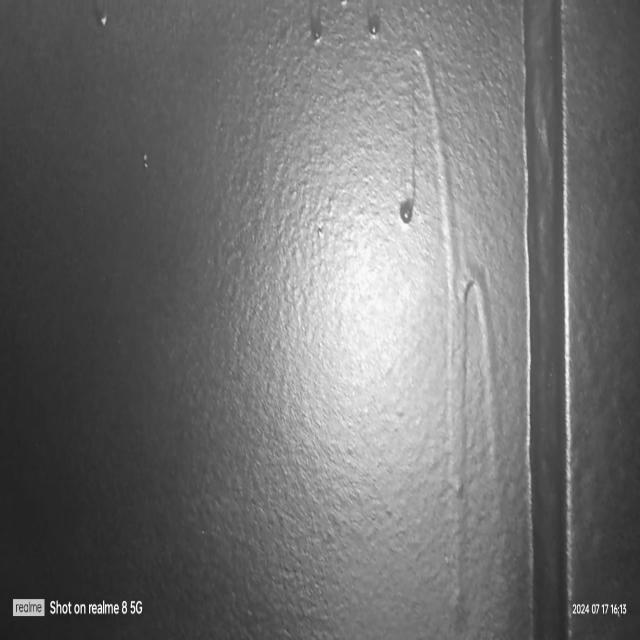paint drips: (390, 0, 510, 640), (294, 0, 333, 62), (83, 0, 115, 47), (365, 0, 384, 43)
